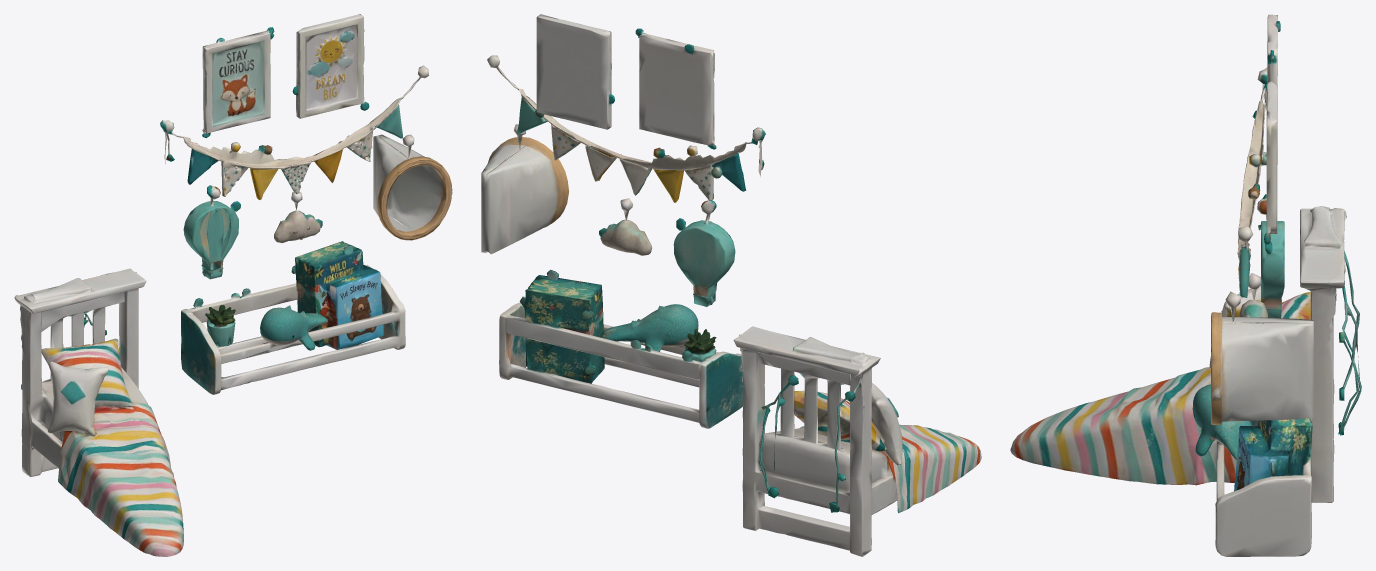
Rendered from scene_story_corner.glb.
The picture shows the model from 3 angles, left to right: view 1: azimuth 30°, elevation 25°; view 2: azimuth 150°, elevation 25°; view 3: azimuth 270°, elevation 25°; orthographic projection. The views are drawn at different scales.
Parts seen in each view (by area): view 1: tripo_node_74964293-cc45-4bc6-8e8a-1b5fb75c058d; view 2: tripo_node_74964293-cc45-4bc6-8e8a-1b5fb75c058d; view 3: tripo_node_74964293-cc45-4bc6-8e8a-1b5fb75c058d.
Boxes of the visible parts, box(x1,y1,x2,y2) form: tripo_node_74964293-cc45-4bc6-8e8a-1b5fb75c058d: box(14, 14, 452, 556); tripo_node_74964293-cc45-4bc6-8e8a-1b5fb75c058d: box(481, 14, 981, 556); tripo_node_74964293-cc45-4bc6-8e8a-1b5fb75c058d: box(1010, 14, 1361, 556).
Size of the model in its own units: 0.9792 by 0.9766 by 0.5909.
Materials: 1 (1 with a texture image).
